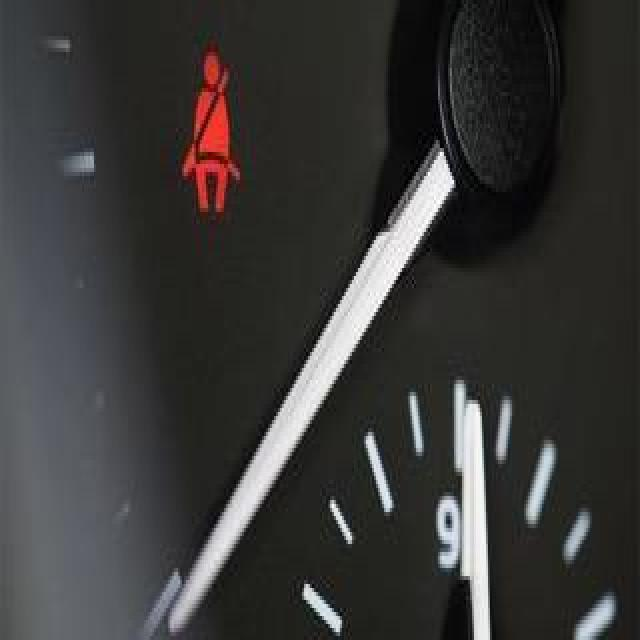kontrolka: (173, 26, 255, 228)
